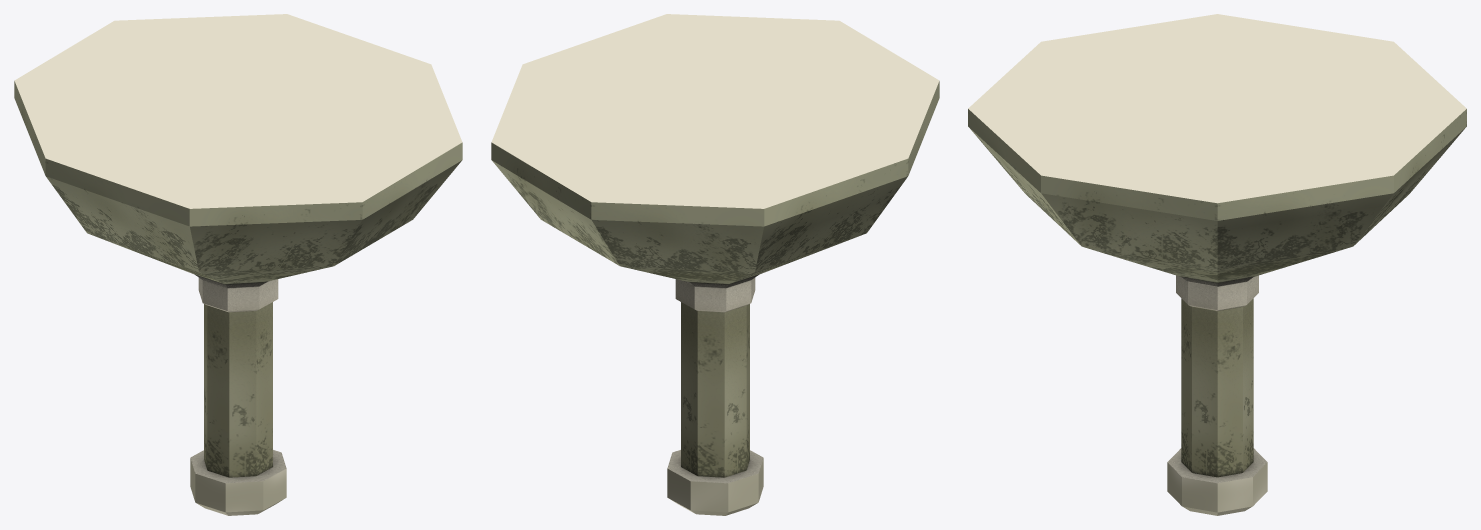
Rendered from CeilingFanSupport.fbx.
3 views of the same model, side by side, from view 1: azimuth 30°, elevation 25°; view 2: azimuth 150°, elevation 25°; view 3: azimuth 270°, elevation 25° (orthographic).
Visible parts, largest first — view 1: polySurface172; view 2: polySurface172; view 3: polySurface172.
Part boxes in pixels (<box>): polySurface172: <box>14,14,462,515</box>; polySurface172: <box>491,14,939,515</box>; polySurface172: <box>968,14,1466,515</box>.
Bounding box in the file's own units: 3.07 × 2.96 × 3.42.
